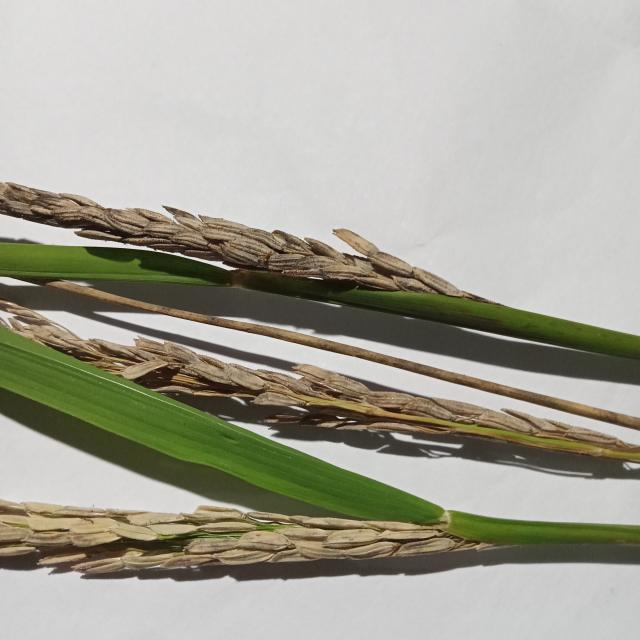Neck_Blast: (0, 315, 638, 466), (0, 183, 463, 290), (0, 508, 473, 582)
